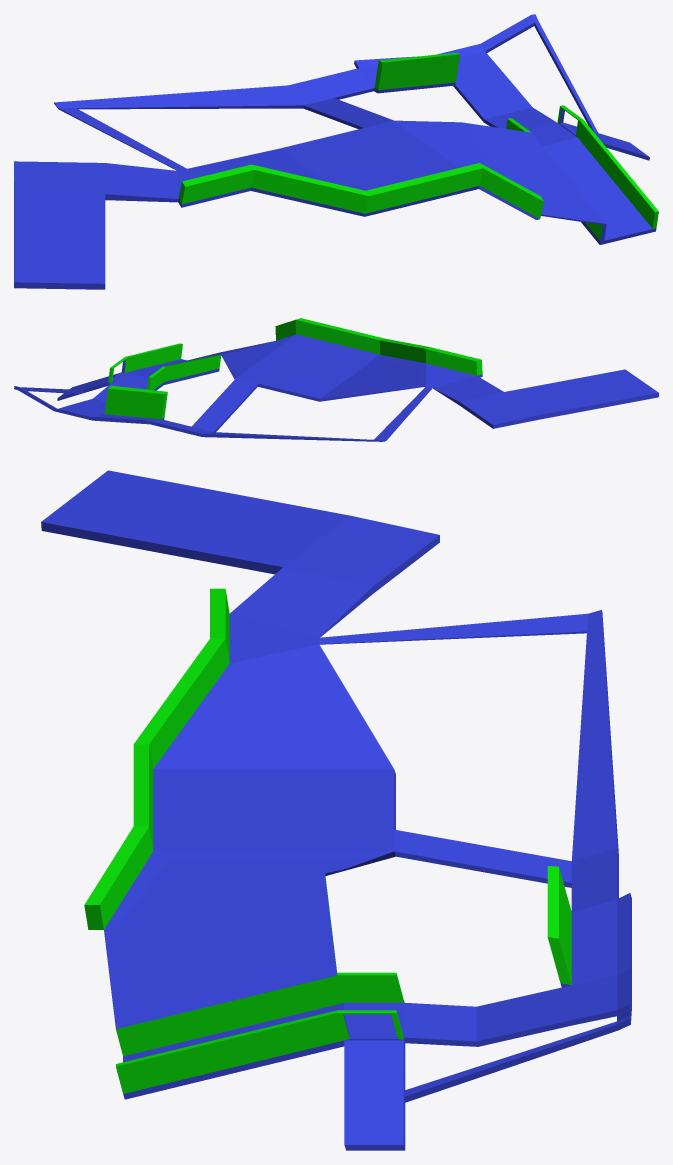
Rendered from CrazyStairs.fbx.
3 renders of one model, top to bottom at view 1: azimuth 30°, elevation 25°; view 2: azimuth 150°, elevation 25°; view 3: azimuth 270°, elevation 25°, orthographic. The views are drawn at different scales.
Parts seen in each view (by area): view 1: Cube; view 2: Cube; view 3: Cube.
Part boxes in pixels (bbox=[...]): Cube: bbox=[14, 14, 658, 289]; Cube: bbox=[14, 318, 658, 441]; Cube: bbox=[41, 470, 631, 1150].
Bounding box in the file's own units: 4767 × 848 × 2312.
